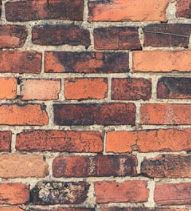brick: (16, 130, 103, 154), (45, 50, 129, 73), (51, 104, 135, 126), (107, 131, 191, 153), (52, 156, 139, 177), (4, 1, 84, 22), (87, 3, 166, 21), (33, 24, 90, 47), (132, 52, 191, 73), (138, 102, 191, 125), (93, 180, 146, 203), (142, 26, 191, 49), (1, 104, 48, 127), (142, 156, 191, 178), (1, 154, 47, 177), (63, 77, 109, 99), (1, 49, 42, 73), (111, 77, 152, 100), (154, 181, 191, 206), (94, 27, 138, 48), (19, 78, 60, 99), (155, 76, 191, 99), (1, 24, 28, 47), (1, 183, 30, 203)
